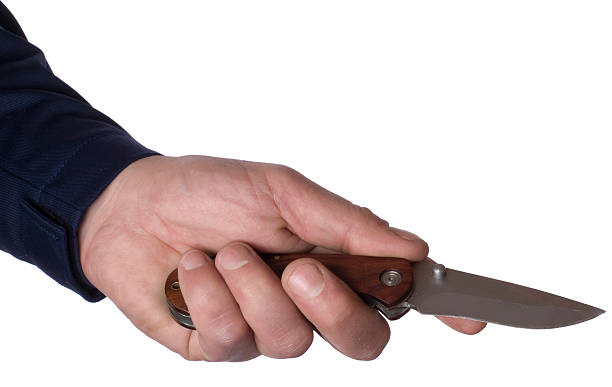knife: (255, 250, 608, 331)
